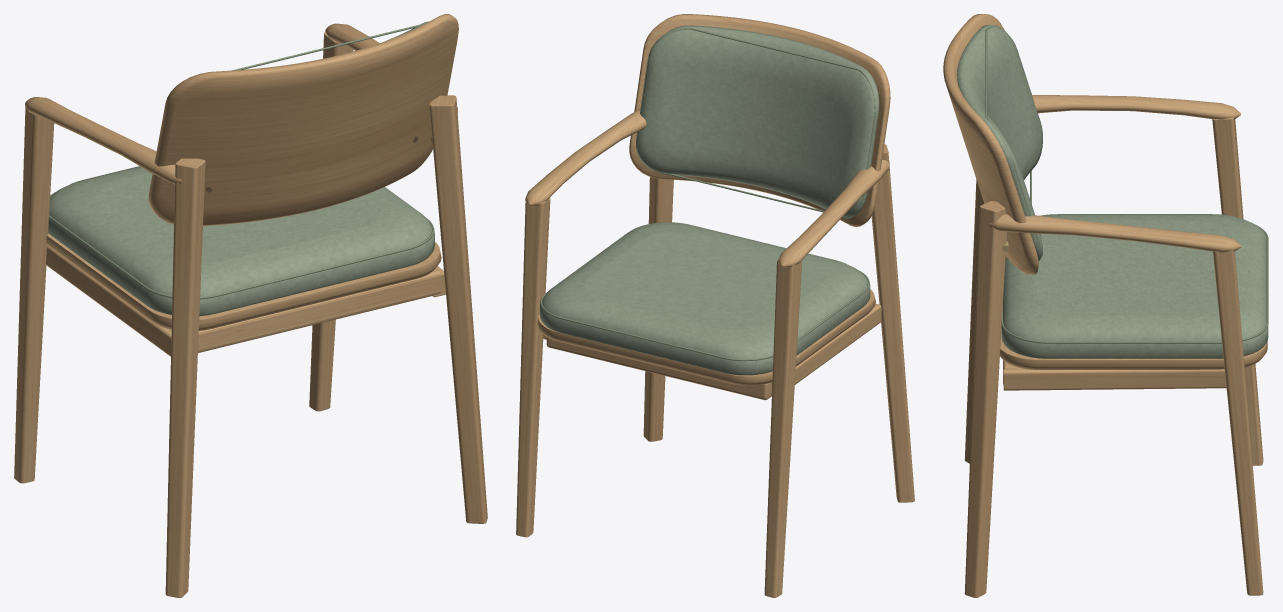
File: Study_Chair.glb
3 renders of one model, left to right at view 1: azimuth 30°, elevation 25°; view 2: azimuth 150°, elevation 25°; view 3: azimuth 270°, elevation 25°, orthographic. The views are drawn at different scales.
Visible parts, largest first — view 1: Chair_BentOakBack, Chair_SeatCushion, Chair_RearUpright_L, Chair_RearUpright_R, Chair_FrontUpright_L, Chair_SeatPan, Chair_CrossRail_Rear, Chair_CarvedArm_L, Chair_SideRail_L, Chair_FrontUpright_R, Chair_SeatWelt, Chair_CarvedArm_R; view 2: Chair_BackCushion, Chair_SeatCushion, Chair_FrontUpright_L, Chair_FrontUpright_R, Chair_RearUpright_L, Chair_BentOakBack, Chair_SeatPan, Chair_CarvedArm_L, Chair_CarvedArm_R, Chair_RearUpright_R, Chair_CrossRail_Front, Chair_SideRail_L (+2 smaller); view 3: Chair_SeatCushion, Chair_RearUpright_R, Chair_BackCushion, Chair_FrontUpright_R, Chair_BentOakBack, Chair_SideRail_R, Chair_CarvedArm_R, Chair_FrontUpright_L, Chair_CarvedArm_L, Chair_SeatPan, Chair_RearUpright_L, Chair_SeatWelt (+1 smaller).
Boxes of the visible parts, bbox=[...] form: Chair_BentOakBack: bbox=[148, 14, 458, 226]; Chair_SeatCushion: bbox=[48, 166, 434, 316]; Chair_RearUpright_L: bbox=[165, 158, 205, 597]; Chair_RearUpright_R: bbox=[429, 95, 487, 523]; Chair_FrontUpright_L: bbox=[14, 106, 54, 483]; Chair_SeatPan: bbox=[46, 233, 441, 330]; Chair_CrossRail_Rear: bbox=[171, 268, 441, 352]; Chair_CarvedArm_L: bbox=[25, 97, 182, 184]; Chair_SideRail_L: bbox=[46, 245, 171, 356]; Chair_FrontUpright_R: bbox=[309, 32, 353, 411]; Chair_SeatWelt: bbox=[49, 192, 434, 299]; Chair_CarvedArm_R: bbox=[325, 23, 457, 115]; Chair_BackCushion: bbox=[636, 25, 879, 218]; Chair_SeatCushion: bbox=[540, 222, 870, 375]; Chair_FrontUpright_L: bbox=[764, 259, 802, 597]; Chair_FrontUpright_R: bbox=[516, 198, 550, 537]; Chair_RearUpright_L: bbox=[871, 144, 914, 502]; Chair_BentOakBack: bbox=[629, 14, 890, 226]; Chair_SeatPan: bbox=[537, 289, 875, 385]; Chair_CarvedArm_L: bbox=[778, 159, 889, 267]; Chair_CarvedArm_R: bbox=[525, 111, 646, 206]; Chair_RearUpright_R: bbox=[643, 177, 673, 441]; Chair_CrossRail_Front: bbox=[546, 337, 771, 400]; Chair_SideRail_L: bbox=[771, 303, 881, 394]; Chair_SeatCushion: bbox=[1001, 214, 1268, 358]; Chair_RearUpright_R: bbox=[964, 201, 1006, 597]; Chair_BackCushion: bbox=[957, 25, 1042, 261]; Chair_FrontUpright_R: bbox=[1213, 250, 1263, 595]; Chair_BentOakBack: bbox=[943, 14, 1038, 274]; Chair_SideRail_R: bbox=[1003, 368, 1226, 390]; Chair_CarvedArm_R: bbox=[989, 213, 1240, 252]; Chair_FrontUpright_L: bbox=[1212, 117, 1263, 465]; Chair_CarvedArm_L: bbox=[1032, 95, 1240, 119]; Chair_SeatPan: bbox=[1000, 329, 1267, 369]; Chair_RearUpright_L: bbox=[964, 179, 984, 463]; Chair_SeatWelt: bbox=[1001, 225, 1268, 343].
Bounding box in the file's own units: 0.5429 × 0.8175 × 0.5226.
5 materials, 2 textured.
